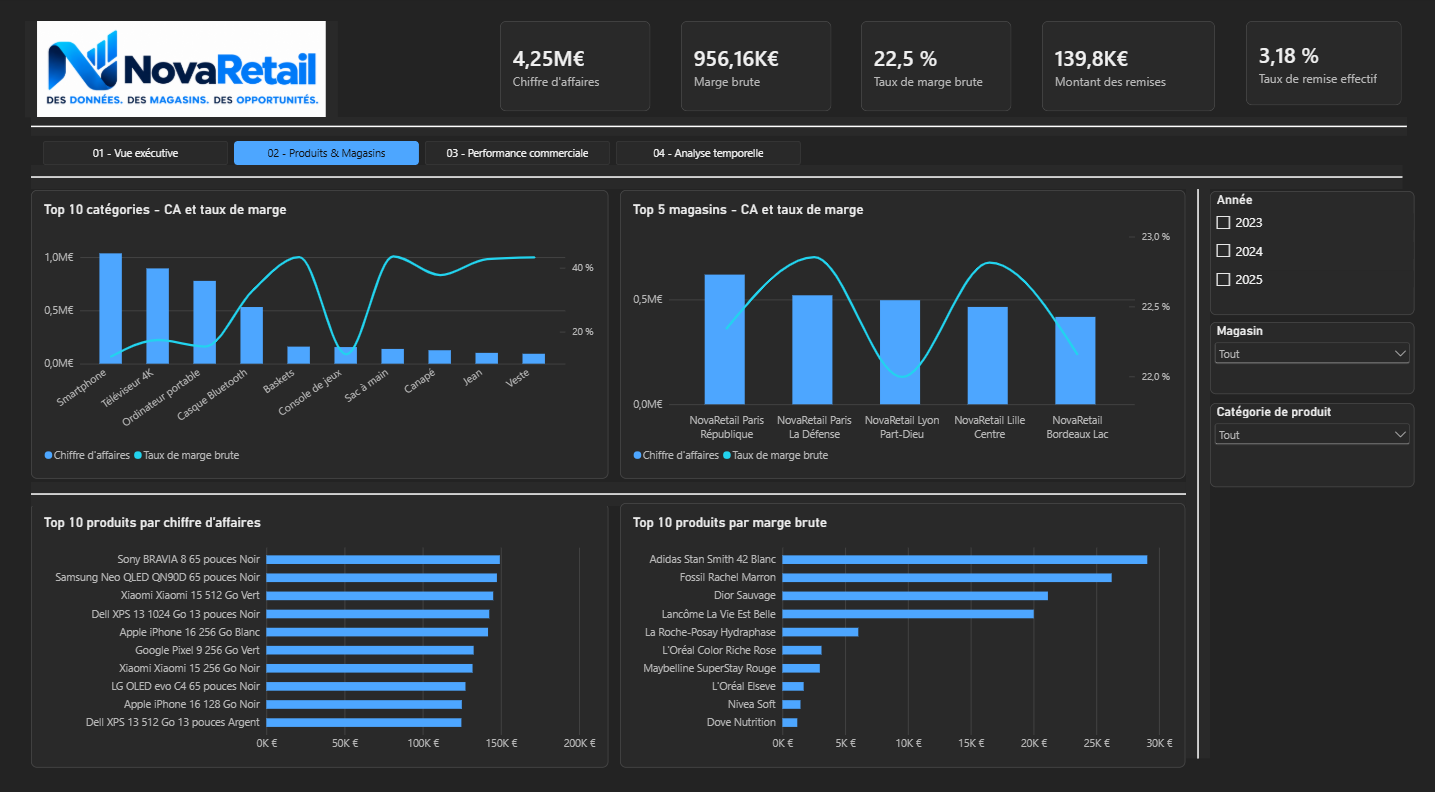

The page's visual inventory and layout, read from the dashboard file:
{"tool":"powerbi","page":{"name":"02 - Produits & Magasins","canvas":[1920,1080],"ordinal":1},"visuals":[{"type":"cardVisual","fields":{"Data":["_Mesures.Chiffre d'affaires"]},"box":[672,32,200,120],"z":0},{"type":"cardVisual","fields":{"Data":["_Mesures.Marge brute"]},"box":[912,32,200,120],"z":1000},{"type":"cardVisual","fields":{"Data":["_Mesures.Taux de marge brute"]},"box":[1152,32,200,120],"z":2000},{"type":"cardVisual","fields":{"Data":["_Mesures.Taux de remise effectif"]},"box":[1664,32,208,112],"z":3000},{"type":"image","box":[40,32,416,128],"z":4000},{"type":"cardVisual","fields":{"Data":["_Mesures.Montant des remises"]},"box":[1392,32,230,120],"z":5000},{"type":"shape","box":[1583.9,244.7,32,768],"z":6000},{"type":"lineClusteredColumnComboChart","title":"Top 10 catégories - CA et taux de marge","fields":{"Category":["dim_produit.type_produit"],"Y":["_Mesures.Chiffre d'affaires"],"Y2":["_Mesures.Taux de marge brute"]},"box":[47.9,257,768,384],"z":7000},{"type":"lineClusteredColumnComboChart","title":"Top 5 magasins - CA et taux de marge","fields":{"Category":["dim_magasin.nom_magasin"],"Y":["_Mesures.Chiffre d'affaires"],"Y2":["_Mesures.Taux de marge brute"]},"box":[831.9,257,752,384],"z":8000},{"type":"barChart","title":"Top 10 produits par chiffre d''affaires","fields":{"Category":["dim_produit.nom_produit"],"Y":["_Mesures.Chiffre d'affaires"]},"box":[47.9,673,768,352],"z":9000},{"type":"shape","box":[47.9,644.7,1536,32],"z":10000},{"type":"barChart","title":"Top 10 produits par marge brute","fields":{"Category":["dim_produit.nom_produit"],"Y":["_Mesures.Marge brute"]},"box":[831.9,673,752,352],"z":11000},{"type":"shape","box":[48,160,1830,25],"z":12000},{"type":"shape","box":[48,224,1824,32],"z":13000},{"type":"pageNavigator","box":[64,192,1008,32],"z":14000},{"type":"slicer","fields":{"Values":["dim_date.annee"]},"box":[1616,257.8,272,165],"z":15000},{"type":"slicer","fields":{"Values":["dim_magasin.nom_magasin"]},"box":[1616,432.5,272,96],"z":16000},{"type":"slicer","fields":{"Values":["dim_produit.type_produit"]},"box":[1616,540.5,272,112],"z":17000}]}

Visuals, with their boxes in screenshot pixels (x1, y1, x2, y2), scaled from the page's 1920x1080 canvas onto the 1435x792 screenshot:
cardVisual - _Mesures.Chiffre d'affaires: 502, 23, 652, 111
cardVisual - _Mesures.Marge brute: 682, 23, 831, 111
cardVisual - _Mesures.Taux de marge brute: 861, 23, 1010, 111
cardVisual - _Mesures.Taux de remise effectif: 1244, 23, 1399, 106
image: 30, 23, 341, 117
cardVisual - _Mesures.Montant des remises: 1040, 23, 1212, 111
shape: 1184, 179, 1208, 743
"Top 10 catégories - CA et taux de marge" lineClusteredColumnComboChart: 36, 188, 610, 470
"Top 5 magasins - CA et taux de marge" lineClusteredColumnComboChart: 622, 188, 1184, 470
"Top 10 produits par chiffre d''affaires" barChart: 36, 494, 610, 752
shape: 36, 473, 1184, 496
"Top 10 produits par marge brute" barChart: 622, 494, 1184, 752
shape: 36, 117, 1404, 136
shape: 36, 164, 1399, 188
pageNavigator: 48, 141, 801, 164
slicer - dim_date.annee: 1208, 189, 1411, 310
slicer - dim_magasin.nom_magasin: 1208, 317, 1411, 388
slicer - dim_produit.type_produit: 1208, 396, 1411, 478
